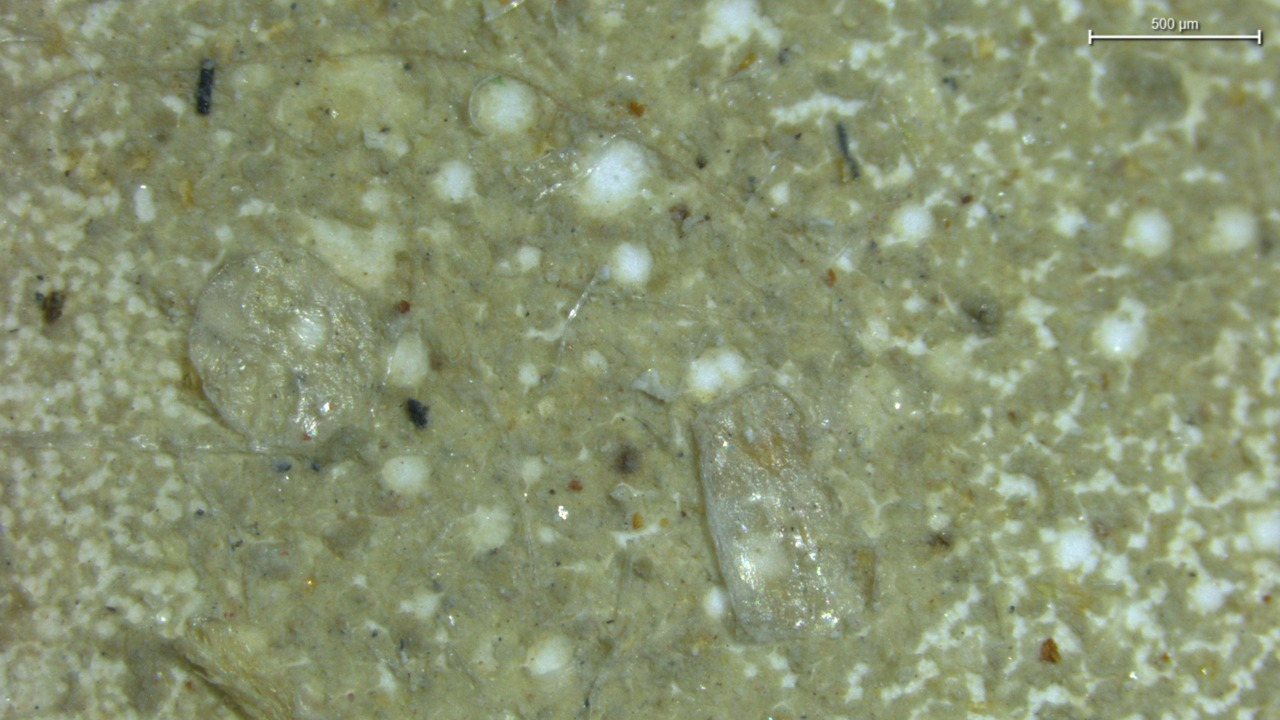microplastic_fragment: (693, 383, 872, 640), (189, 249, 383, 448), (632, 369, 676, 402)
